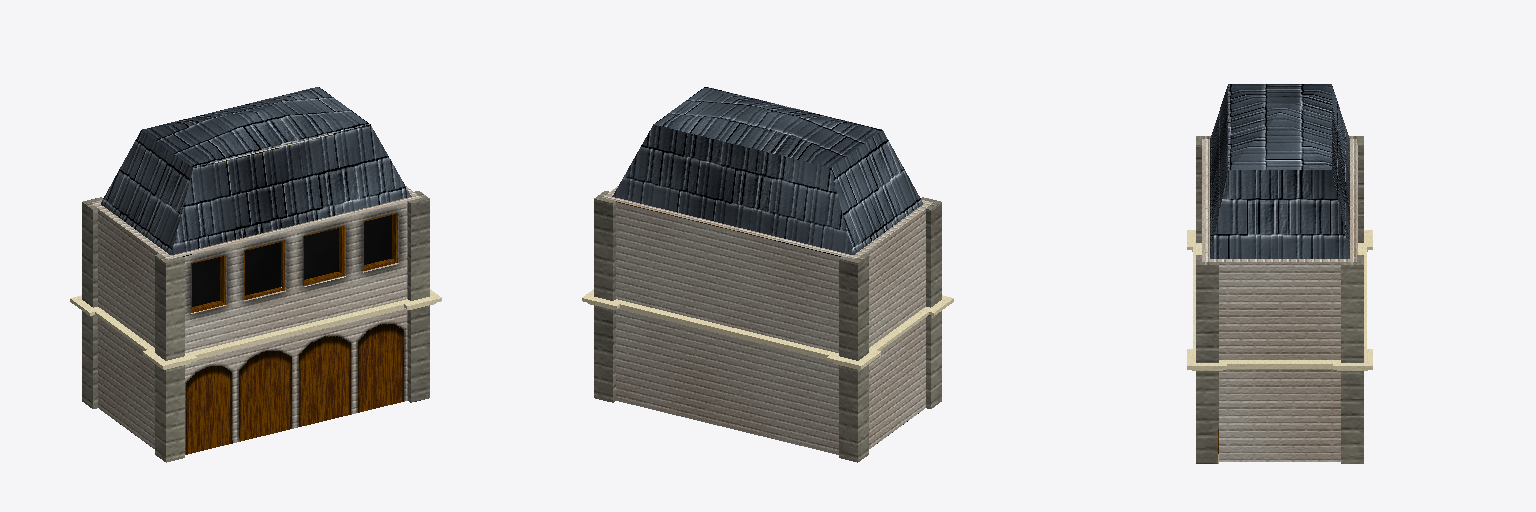
3 renders of one model, left to right at view 1: azimuth 30°, elevation 25°; view 2: azimuth 150°, elevation 25°; view 3: azimuth 270°, elevation 25°, orthographic.
Parts seen in each view (by area): view 1: Cube1; view 2: Cube1; view 3: Cube1.
Part boxes in pixels (left/top/right/bottom): Cube1: left=70, top=87, right=441, bottom=462; Cube1: left=582, top=87, right=953, bottom=462; Cube1: left=1187, top=84, right=1372, bottom=463.
Bounding box in the file's own units: 8.3 × 8.16 × 4.77.
1 materials, 1 textured.